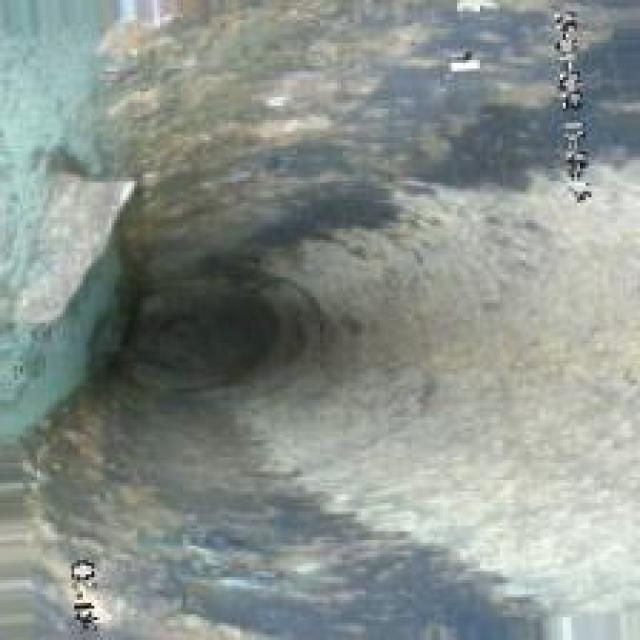stone: (20, 151, 143, 343)
